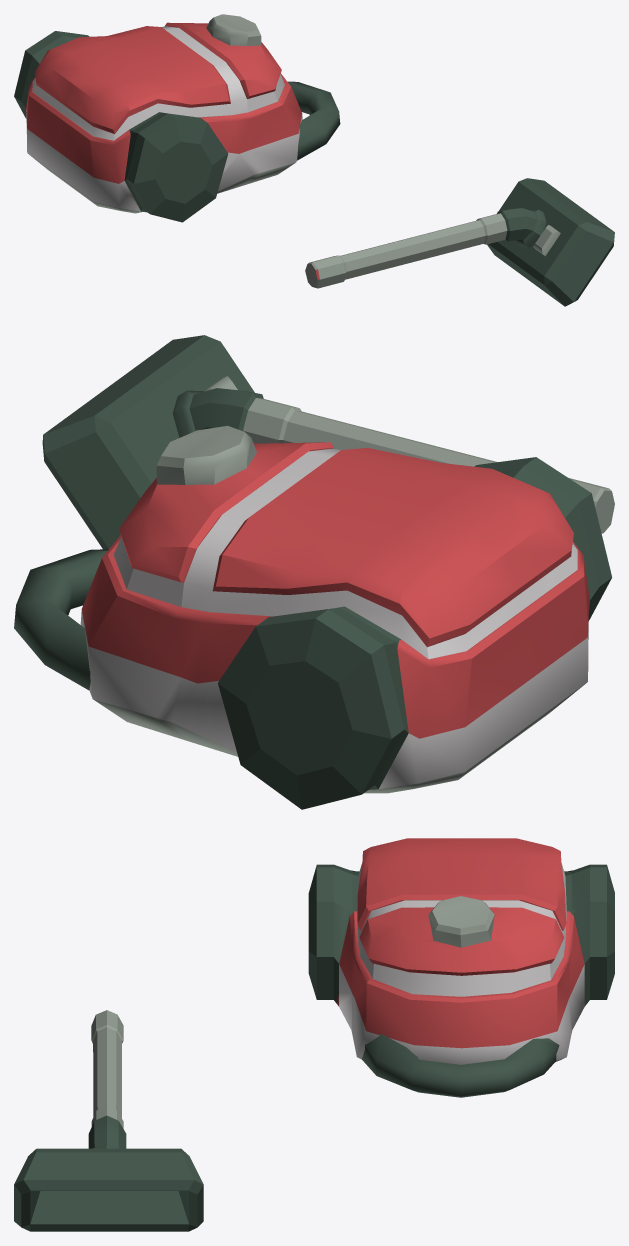
File: Vacume_Cleaner.fbx
The picture shows the model from 3 angles, top to bottom: view 1: azimuth 30°, elevation 25°; view 2: azimuth 150°, elevation 25°; view 3: azimuth 270°, elevation 25°; orthographic projection. The views are drawn at different scales.
Parts seen in each view (by area): view 1: Vacume_Canister, Vacume_stick; view 2: Vacume_Canister, Vacume_stick; view 3: Vacume_Canister, Vacume_stick.
Part boxes in pixels (x1,y1,x2,y2): Vacume_Canister: [14, 14, 340, 222]; Vacume_stick: [305, 178, 614, 306]; Vacume_Canister: [14, 425, 612, 809]; Vacume_stick: [42, 335, 614, 549]; Vacume_Canister: [308, 838, 614, 1097]; Vacume_stick: [14, 1010, 203, 1231].
Size of the model in its own units: 124 by 60.36 by 141.
